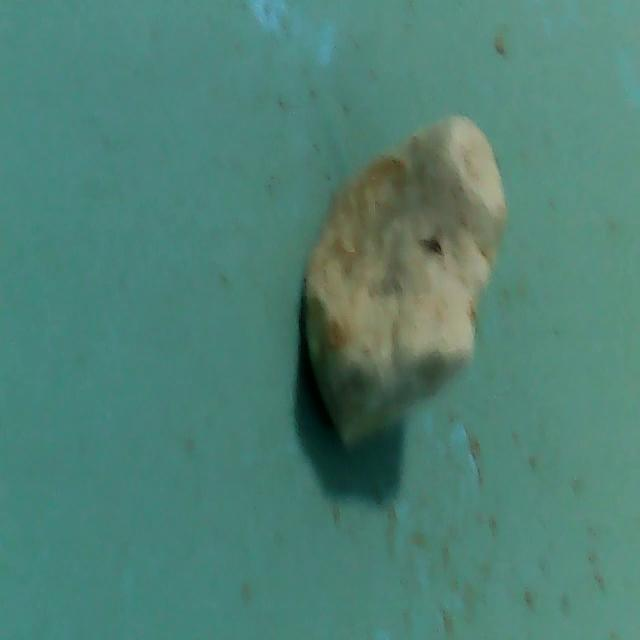rock: (294, 105, 518, 467)
